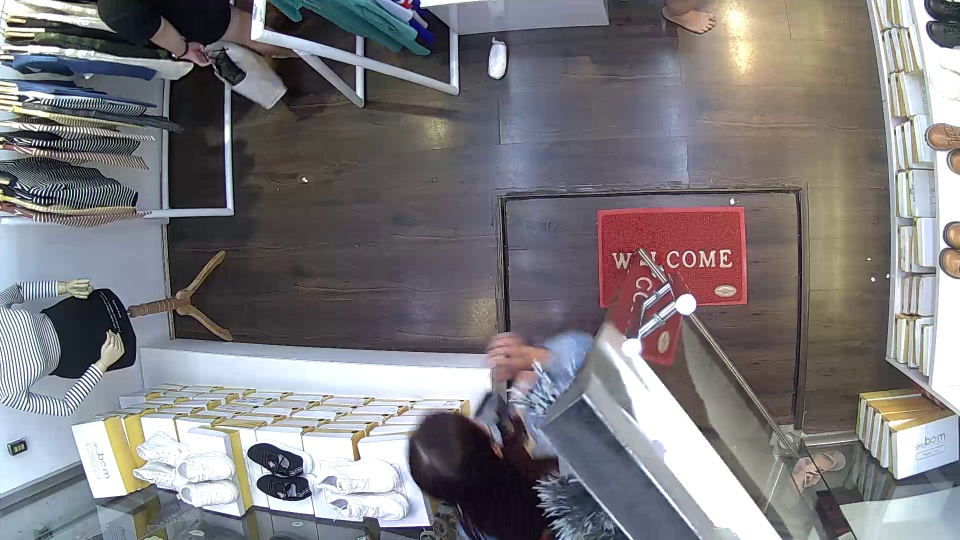topviewhead: (399, 409, 506, 509)
